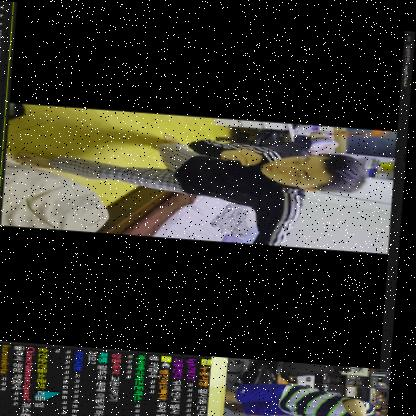streamer: (228, 373, 395, 416)
